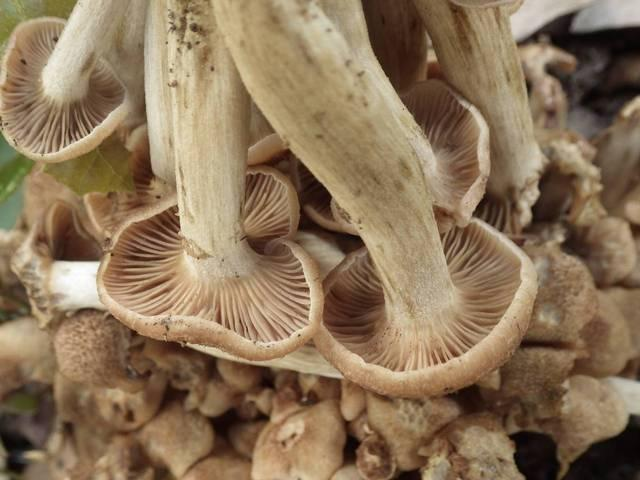edible_mushroom: (1, 0, 543, 398)
